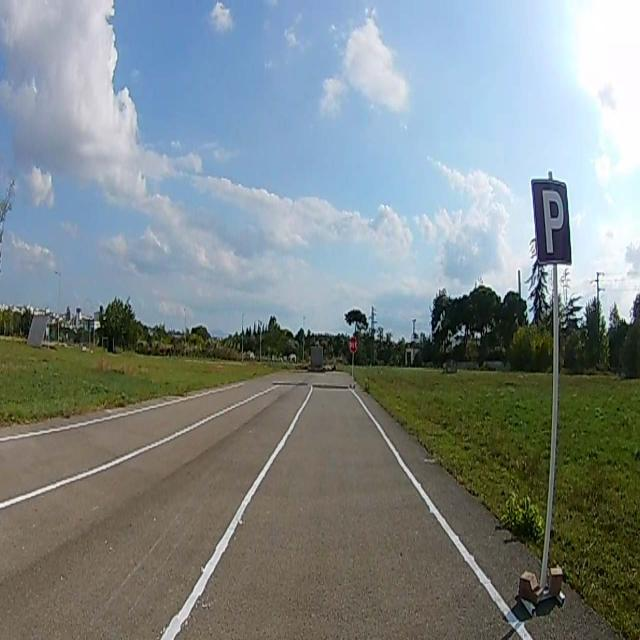park: (532, 182, 570, 264)
